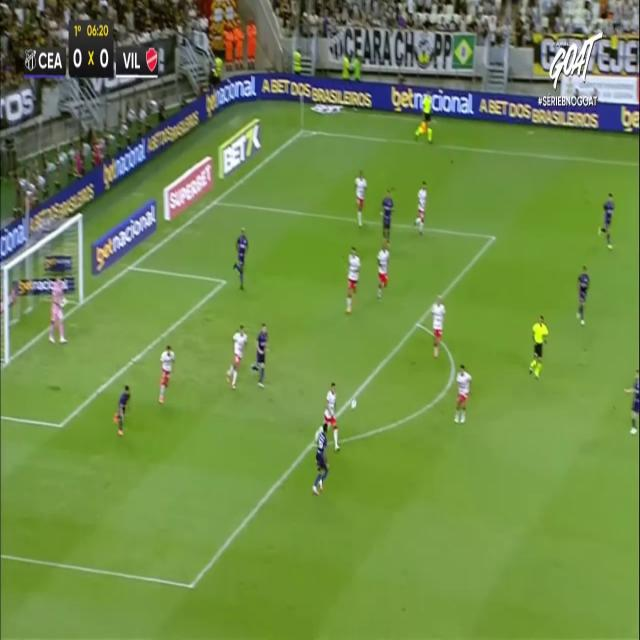ball: (349, 392, 360, 418)
goalkeeper: (48, 275, 68, 343)
player: (226, 324, 248, 390), (311, 422, 329, 495), (323, 381, 340, 451), (251, 323, 269, 388), (345, 245, 361, 314), (454, 363, 472, 423), (623, 368, 639, 434), (158, 344, 175, 404), (232, 227, 248, 290), (598, 192, 615, 249), (431, 295, 446, 358), (114, 384, 131, 436), (575, 264, 589, 324), (380, 188, 394, 246), (376, 243, 390, 300), (354, 169, 366, 227), (415, 180, 427, 235)
referee: (414, 82, 437, 150), (528, 314, 548, 379)
